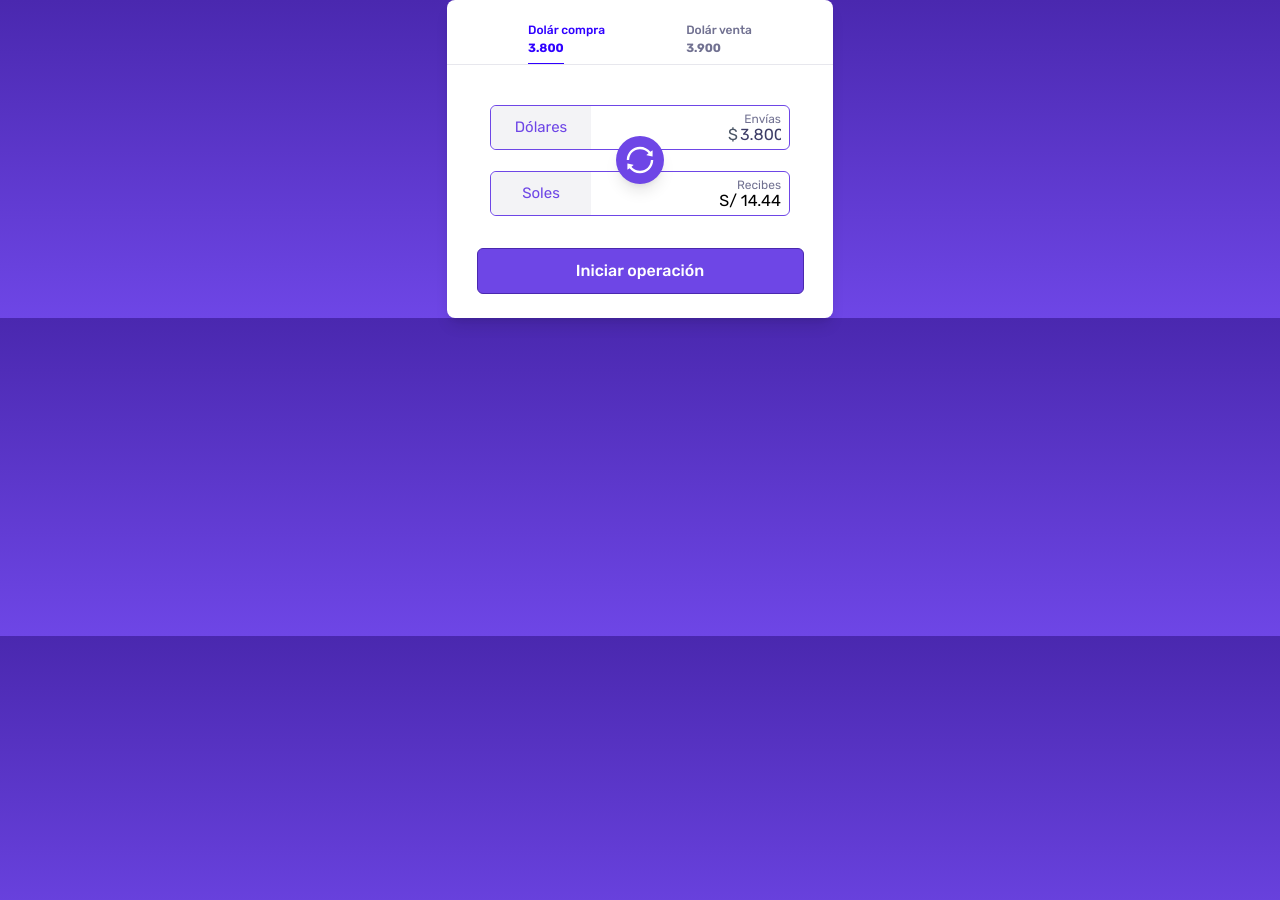
CurrencyConverter.vue › debe calcular correctamente la conversión de soles a dólares en la pestaña de venta
# Ir a la pestaña de venta
Click the text "Dolár venta" at (719, 30), box [686,21,752,39]
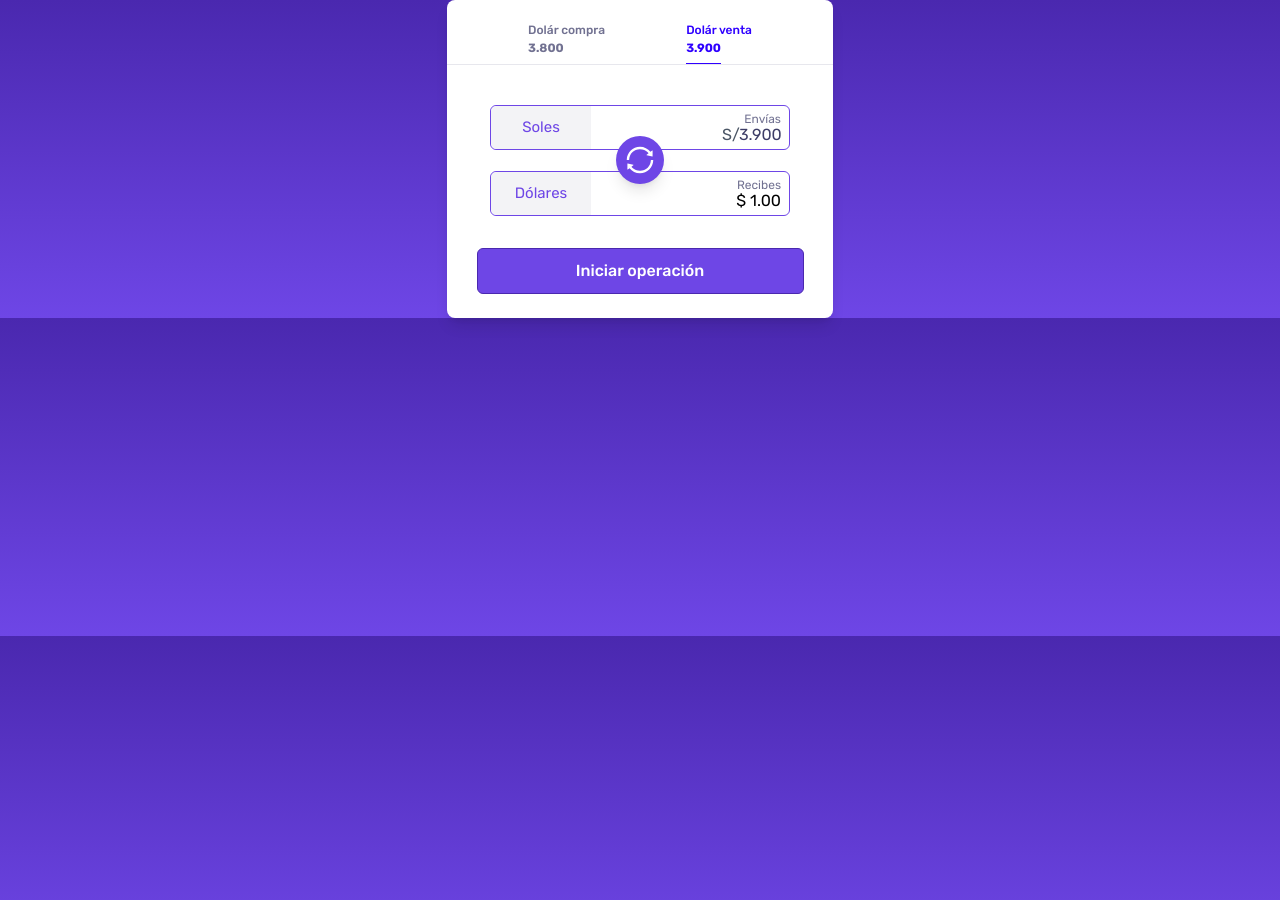
# Ingresar 100 soles para convertir a dólares
Replace the text in the field with "100" at (748, 135), box [715,123,781,147]
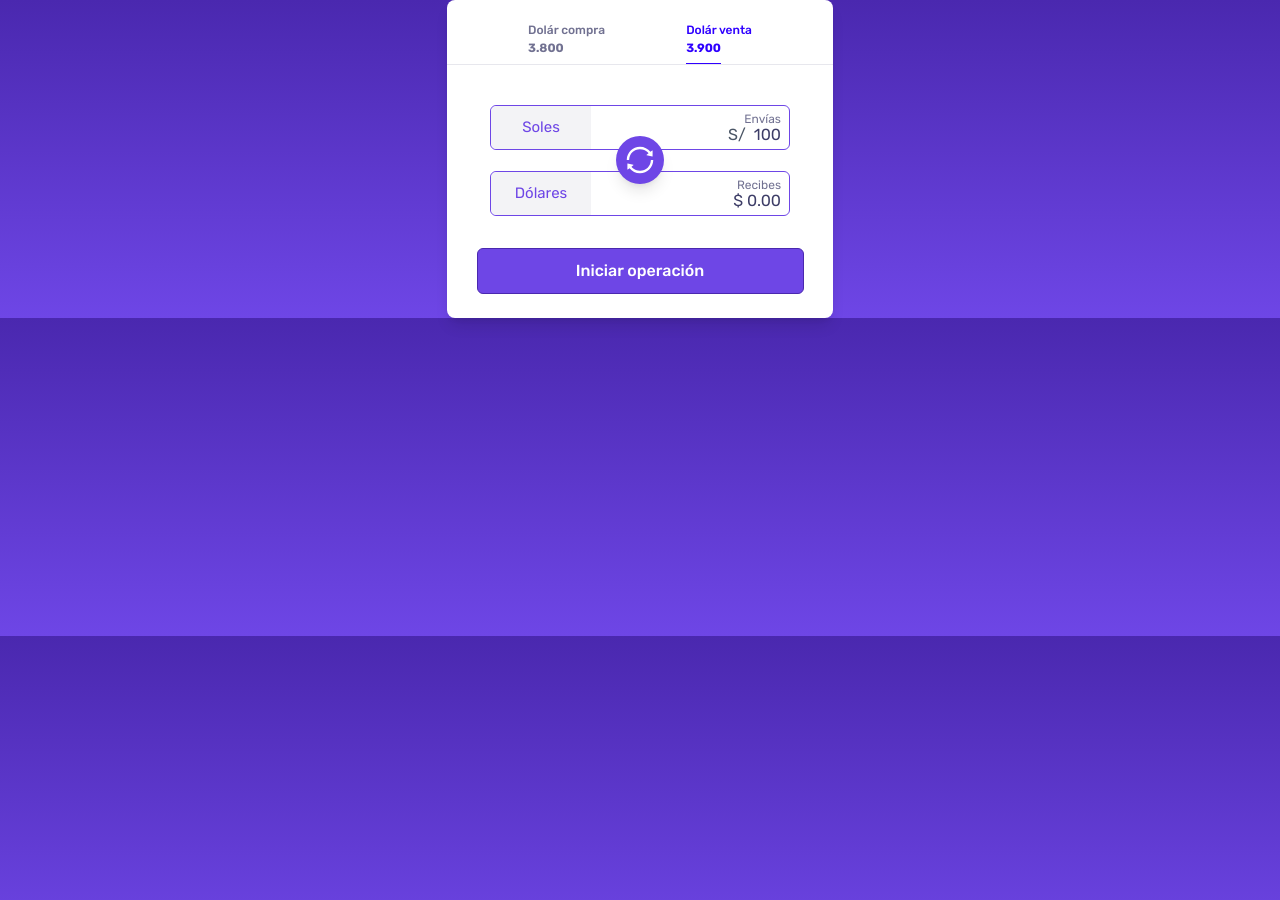
Click the button "Iniciar operación" at (640, 271), box [476,248,804,294]
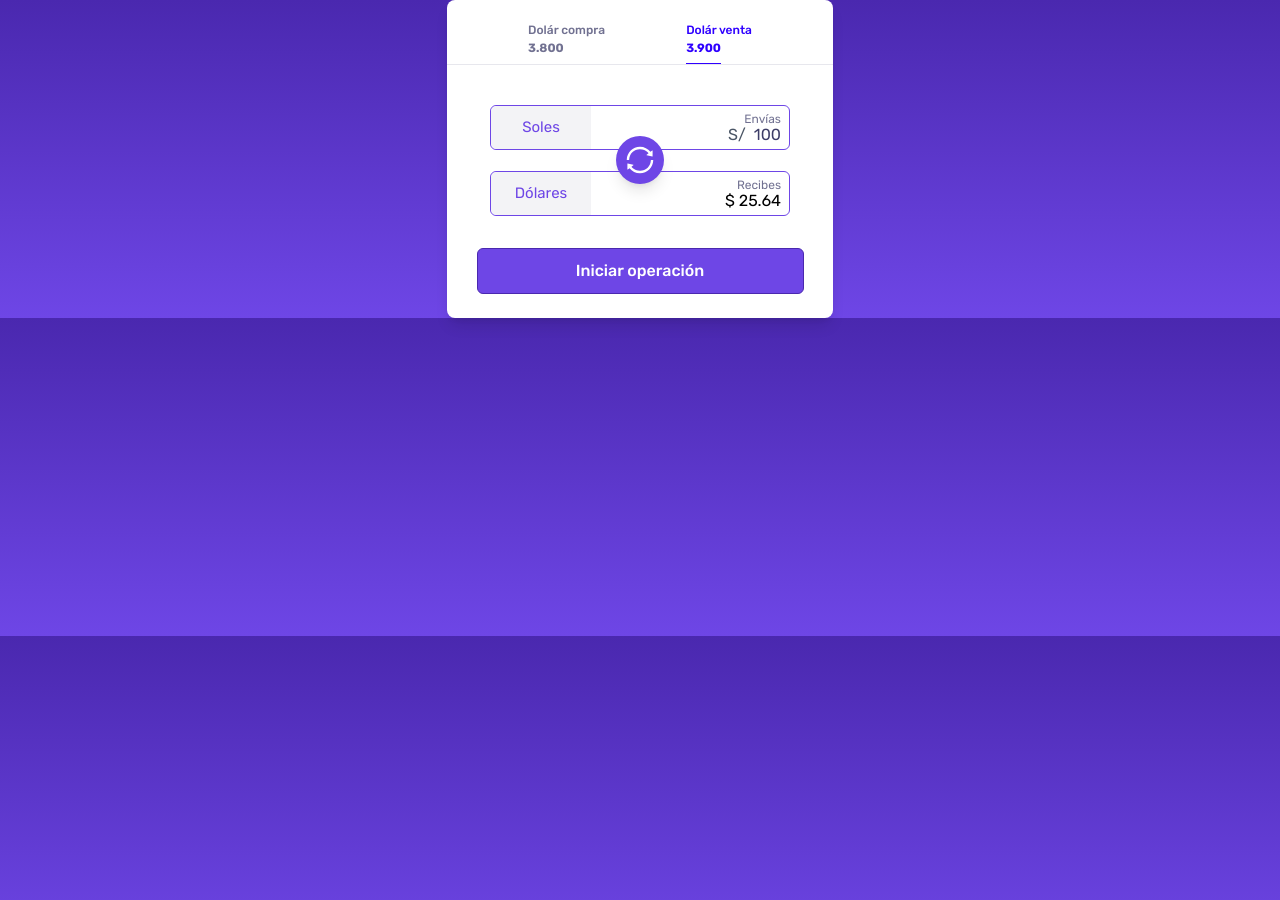
Expected: the text "$ 25.64" is shown, [725,191,781,210]
